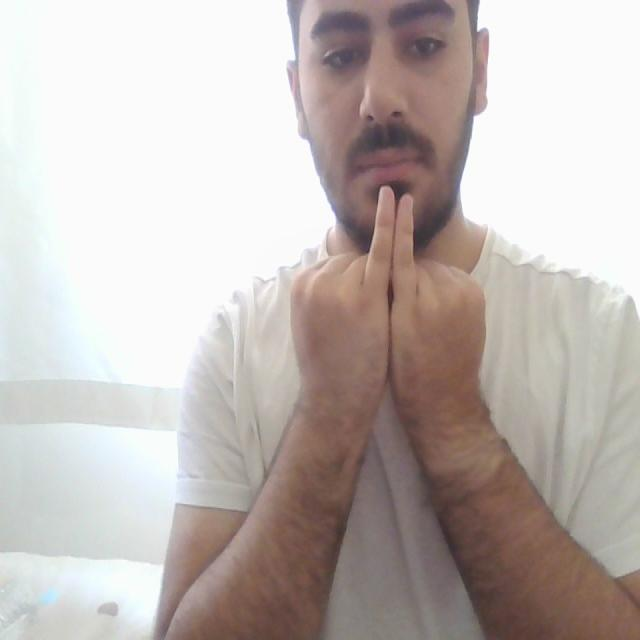Kardes: (290, 176, 494, 439)
